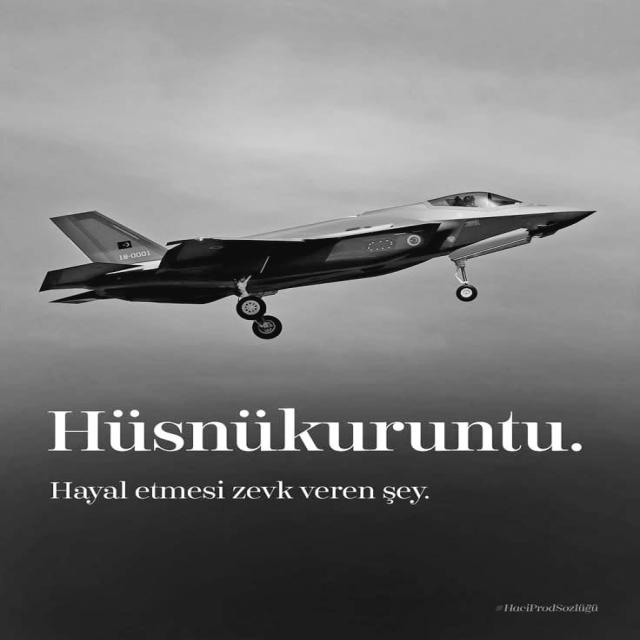iha: (16, 191, 594, 339)
